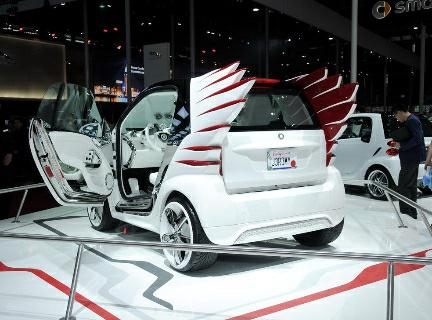smart-forjeremy: (98, 71, 348, 262)
